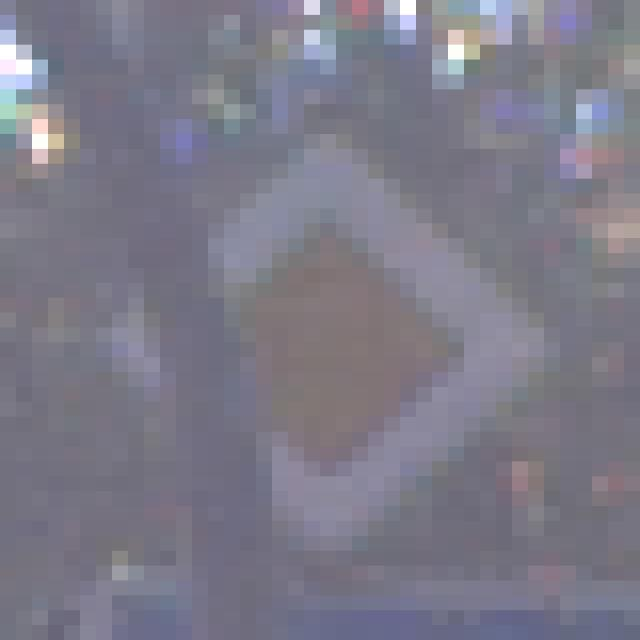Main Road: (81, 90, 561, 552)
